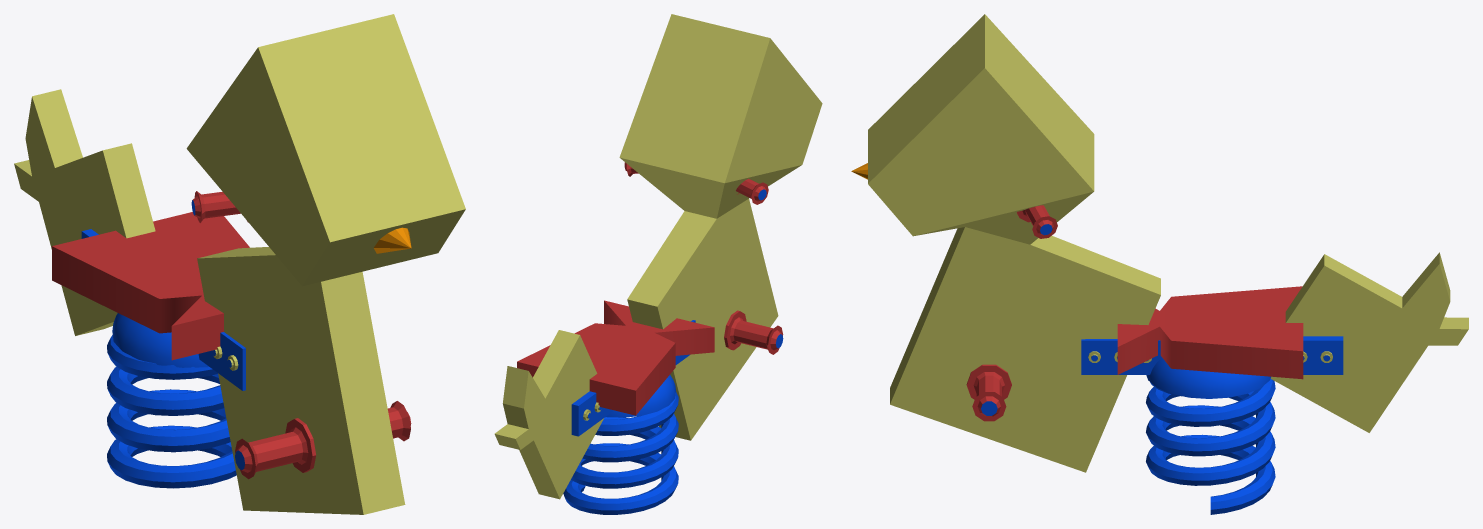
The model's file is SpringRocker.fbx.
The picture shows the model from 3 angles, left to right: view 1: azimuth 30°, elevation 25°; view 2: azimuth 150°, elevation 25°; view 3: azimuth 270°, elevation 25°; orthographic projection. The views are drawn at different scales.
Parts seen in each view (by area): view 1: pCylinder96; view 2: pCylinder96; view 3: pCylinder96.
Part boxes in pixels (x1,y1,x2,y2): pCylinder96: [14, 14, 465, 514]; pCylinder96: [494, 14, 822, 514]; pCylinder96: [851, 14, 1468, 514].
Size of the model in its own units: 0.5509 by 1.52 by 1.89.
